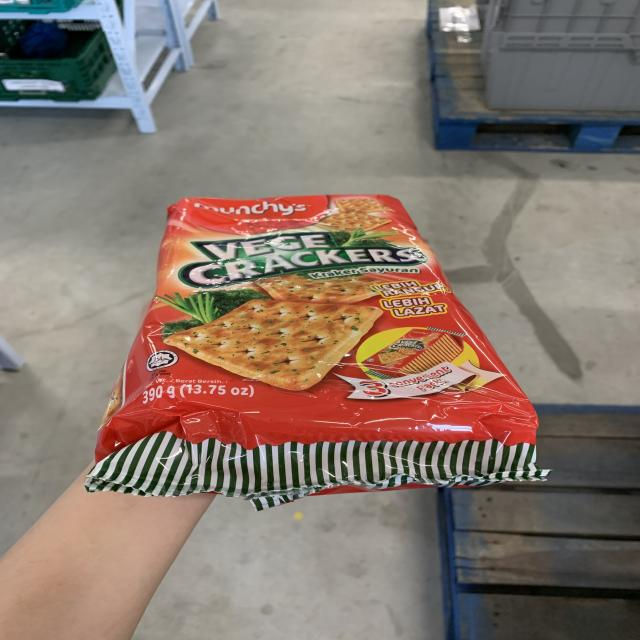object_name: (118, 201, 507, 477)
